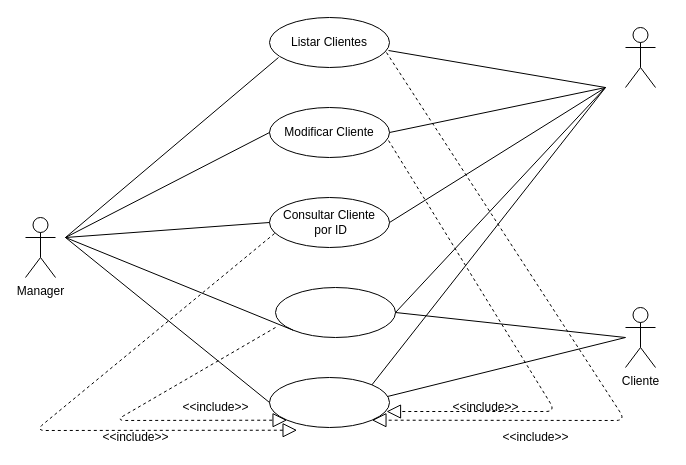
Some shapes in this 686 by 465 pixel diagram are drawn without their labels. Here are the shapes that lost their labels. From the top down, the centre of each, then its label:
the point at 640,57: Employeer
the point at 335,312: Añadir Cliente
the point at 329,402: Logearse
